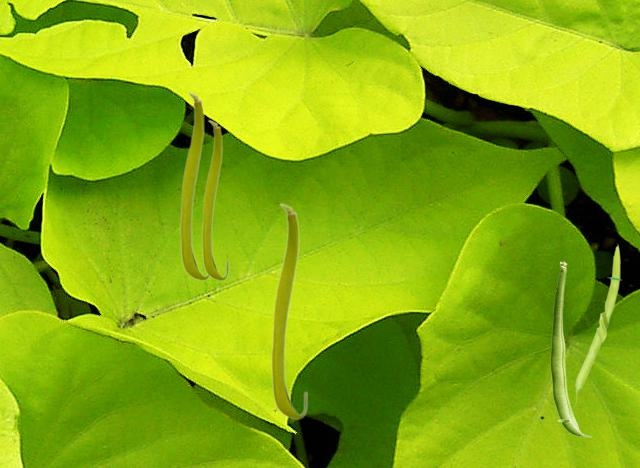french_bean: (270, 202, 307, 419), (573, 242, 621, 408), (550, 261, 591, 436), (179, 91, 209, 280), (201, 119, 228, 280)
